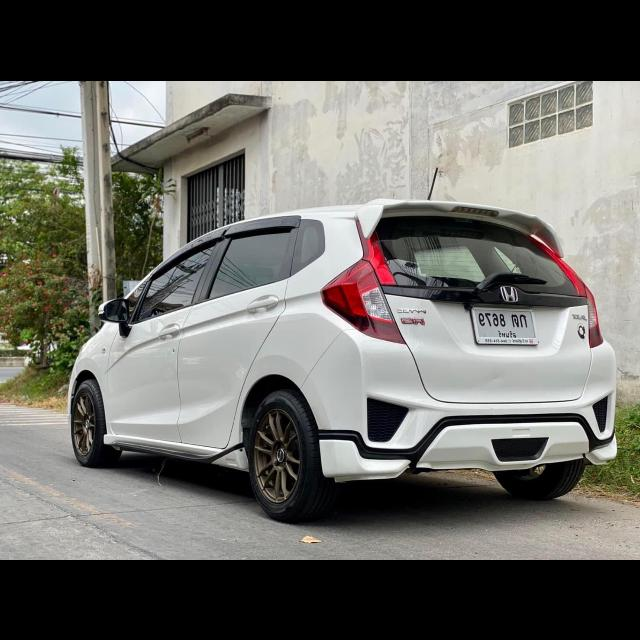cars: (55, 156, 622, 528)
